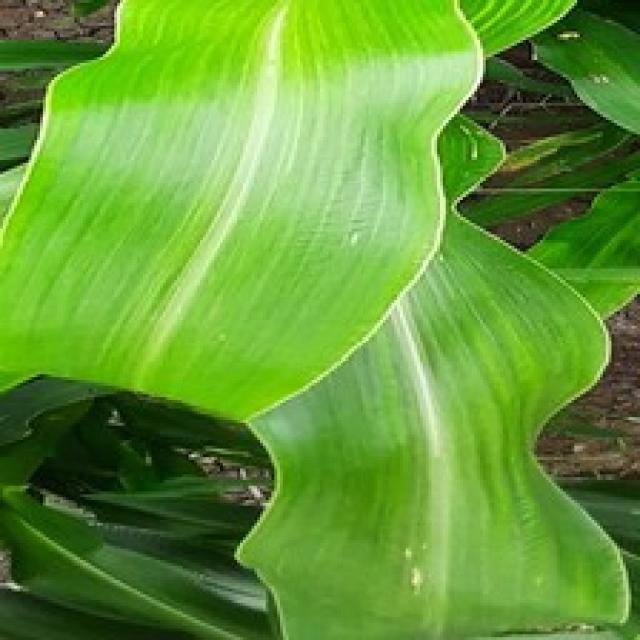Corn: (0, 0, 637, 637), (529, 0, 637, 146)
